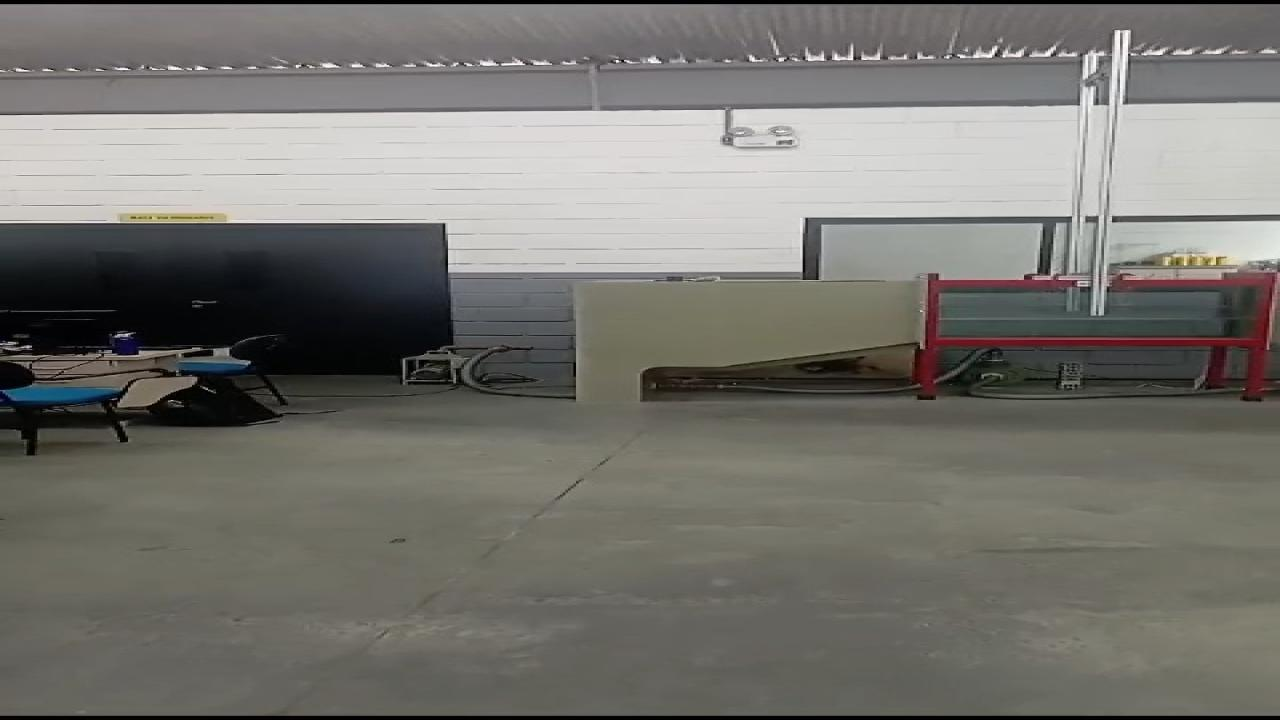Cube: (668, 277, 681, 281)
